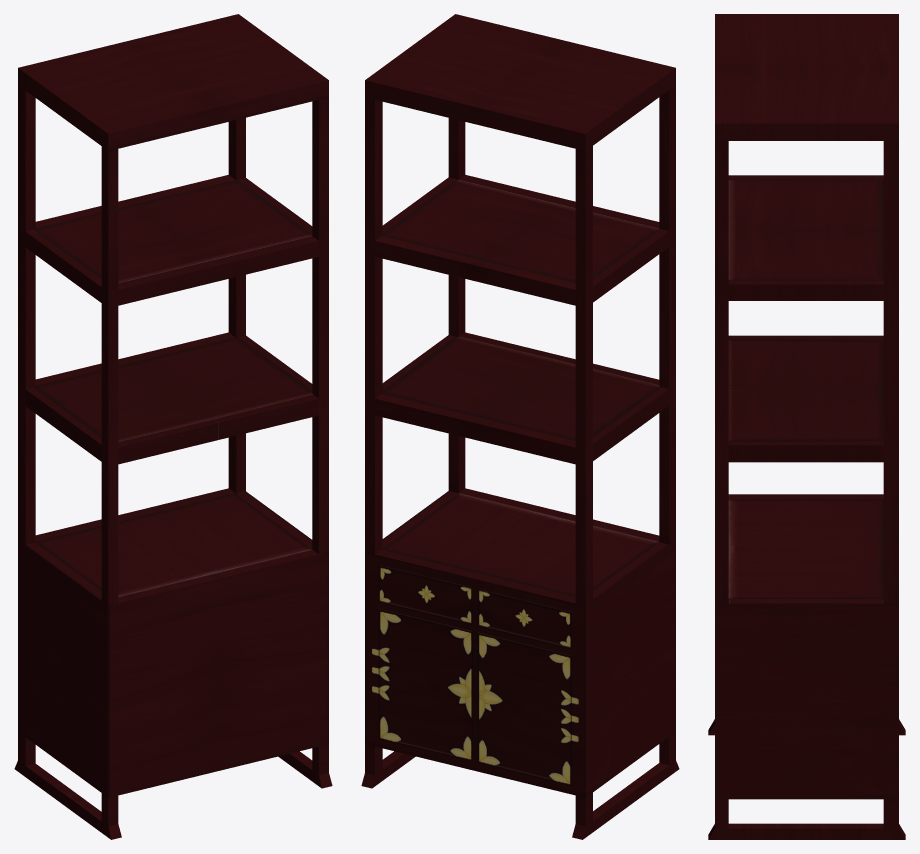
File: NNJ0810018.fbx
The picture shows the model from 3 angles, left to right: view 1: azimuth 30°, elevation 25°; view 2: azimuth 150°, elevation 25°; view 3: azimuth 270°, elevation 25°; orthographic projection.
Parts seen in each view (by area): view 1: smNNJ0810018; view 2: smNNJ0810018; view 3: smNNJ0810018.
Boxes of the visible parts, left/top/right/bottom form: smNNJ0810018: left=14, top=14, right=332, bottom=839; smNNJ0810018: left=361, top=14, right=679, bottom=839; smNNJ0810018: left=708, top=14, right=905, bottom=839.
Size of the model in its own units: 88.66 by 269 by 67.25.
1 material, 1 textured.
